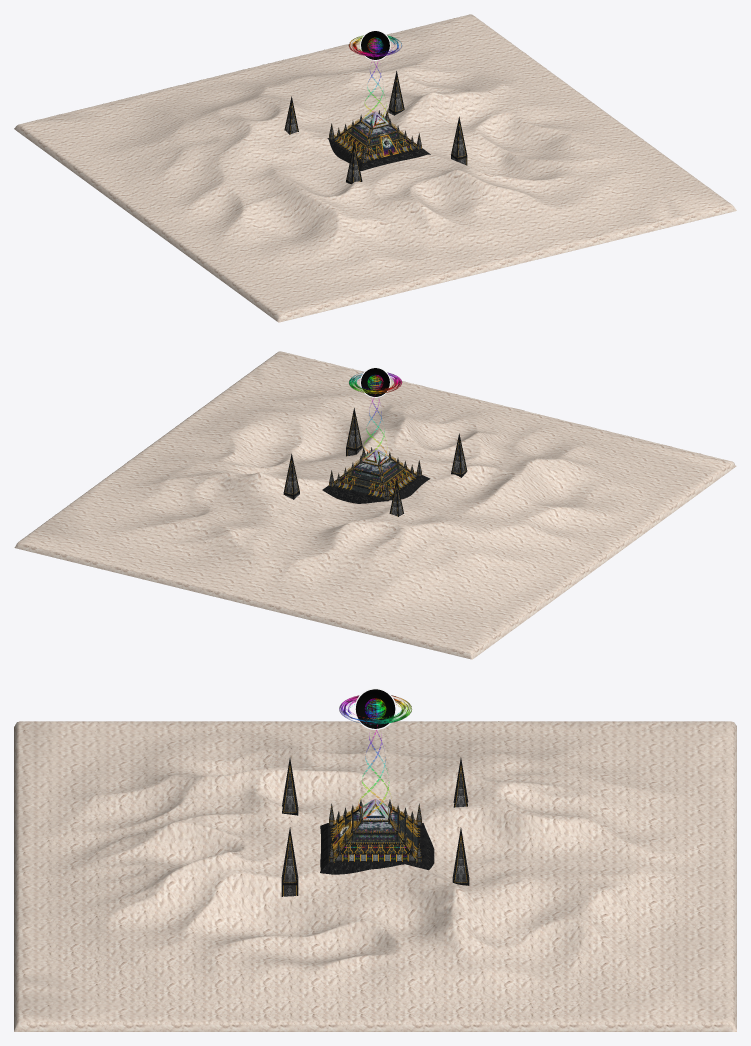
The model's file is pyramidion512-transformed.glb.
The picture shows the model from 3 angles, top to bottom: view 1: azimuth 30°, elevation 25°; view 2: azimuth 150°, elevation 25°; view 3: azimuth 270°, elevation 25°; orthographic projection. The views are drawn at different scales.
Visible parts, largest first — view 1: Landscape, Cube, Cube.007, Cube.025, Circle, Cube.009; view 2: Landscape, Cube, Cube.007, Cube.025, Circle, Cube.009; view 3: Landscape, Cube, Cube.007, Cube.025, Circle, Cube.009.
Boxes of the visible parts, x1=… form: Landscape: x1=14, y1=14, x2=736, y2=322; Cube: x1=284, y1=71, x2=467, y2=184; Cube.007: x1=285, y1=38, x2=466, y2=182; Cube.025: x1=340, y1=35, x2=408, y2=157; Circle: x1=361, y1=31, x2=391, y2=147; Cube.009: x1=286, y1=80, x2=465, y2=180; Landscape: x1=14, y1=351, x2=736, y2=659; Cube: x1=283, y1=408, x2=467, y2=516; Cube.007: x1=285, y1=375, x2=466, y2=516; Cube.025: x1=342, y1=372, x2=410, y2=494; Circle: x1=361, y1=368, x2=389, y2=396; Cube.009: x1=286, y1=417, x2=464, y2=514; Landscape: x1=14, y1=721, x2=736, y2=1031; Cube: x1=281, y1=757, x2=469, y2=896; Cube.007: x1=283, y1=699, x2=467, y2=896; Cube.025: x1=333, y1=695, x2=417, y2=858; Circle: x1=340, y1=689, x2=395, y2=836; Cube.009: x1=285, y1=771, x2=465, y2=895.
Size of the model in its own units: 132 by 38.05 by 132.
Materials: 63 (57 with a texture image).
